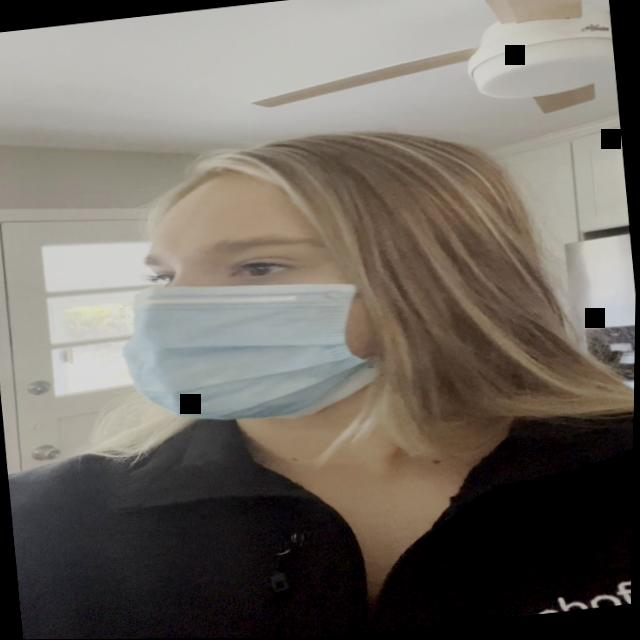Mask: (106, 152, 399, 437)
